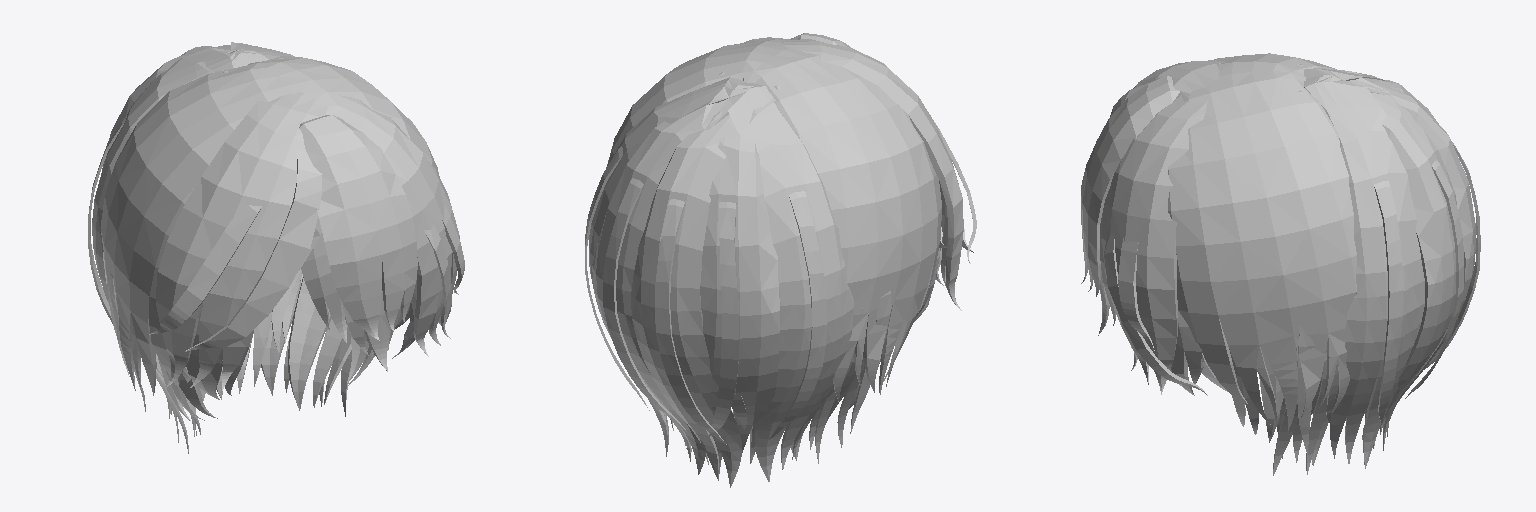
Rendered from Short.obj.
The picture shows the model from 3 angles: view 1: azimuth 30°, elevation 25°; view 2: azimuth 150°, elevation 25°; view 3: azimuth 270°, elevation 25°; orthographic projection.
Visible parts, largest first — view 1: mesh_Mesh.009; view 2: mesh_Mesh.009; view 3: mesh_Mesh.009.
Boxes of the visible parts, <box> form: mesh_Mesh.009: <box>88,42,464,453</box>; mesh_Mesh.009: <box>585,33,976,487</box>; mesh_Mesh.009: <box>1081,53,1480,475</box>.
Size of the model in its own units: 3.29 by 3.82 by 3.67.